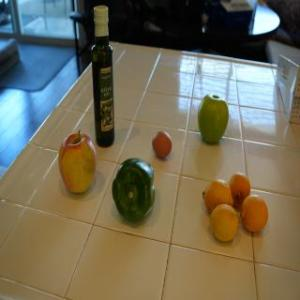bell_pepper: (106, 154, 162, 225)
egg: (152, 126, 174, 160)
